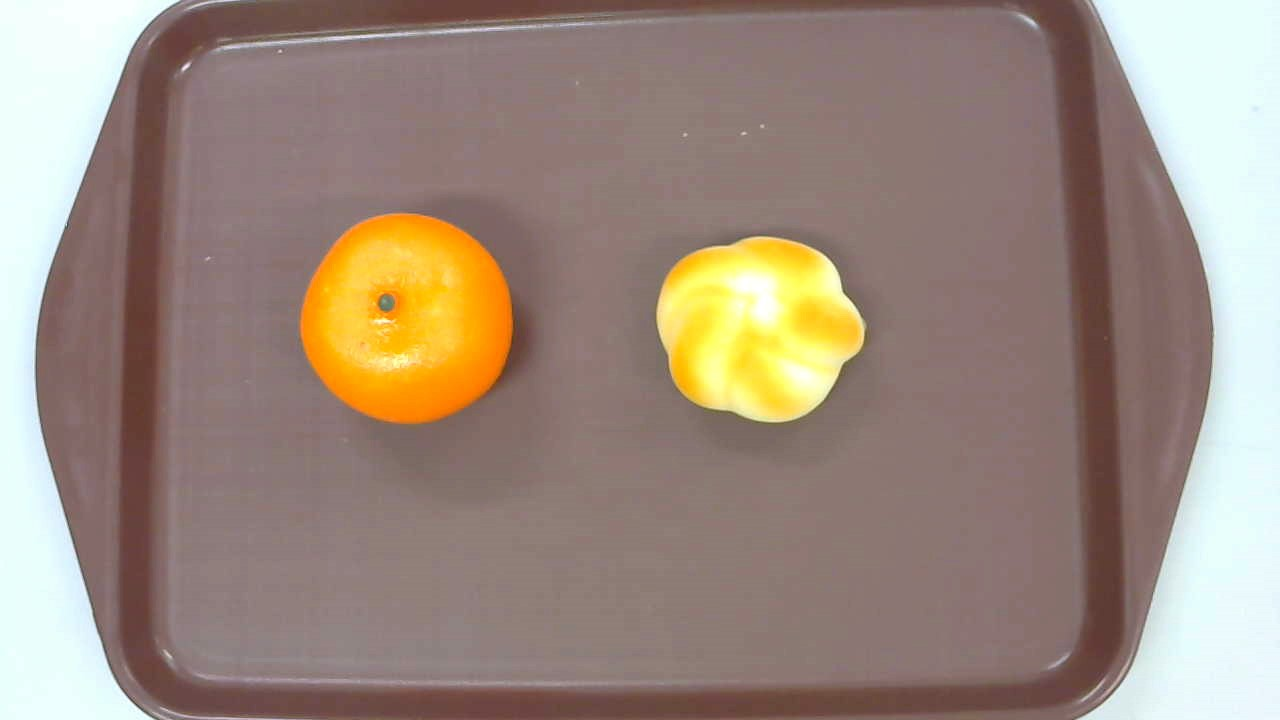orange: (298, 212, 514, 426)
twist bread: (657, 236, 867, 424)
